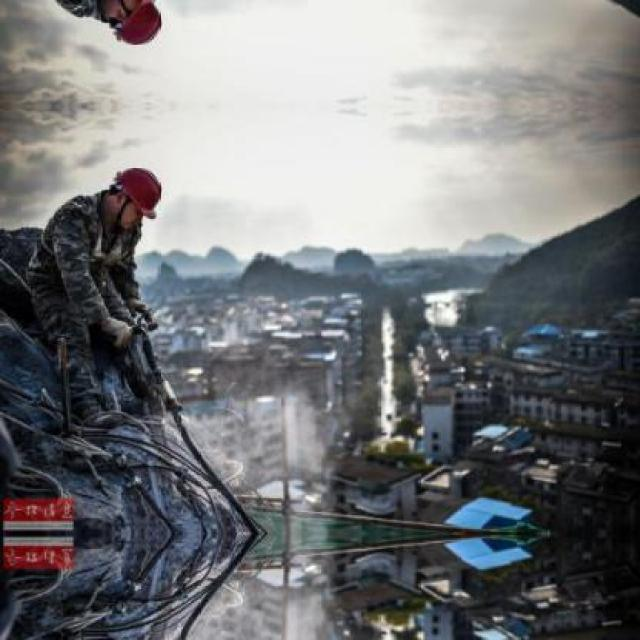helmet: (99, 160, 166, 228), (99, 0, 168, 54)
